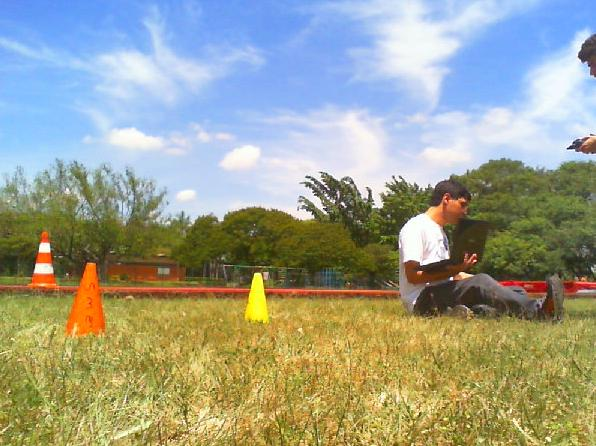0 cone: (63, 262, 107, 336), (30, 230, 59, 288), (241, 273, 271, 324)
